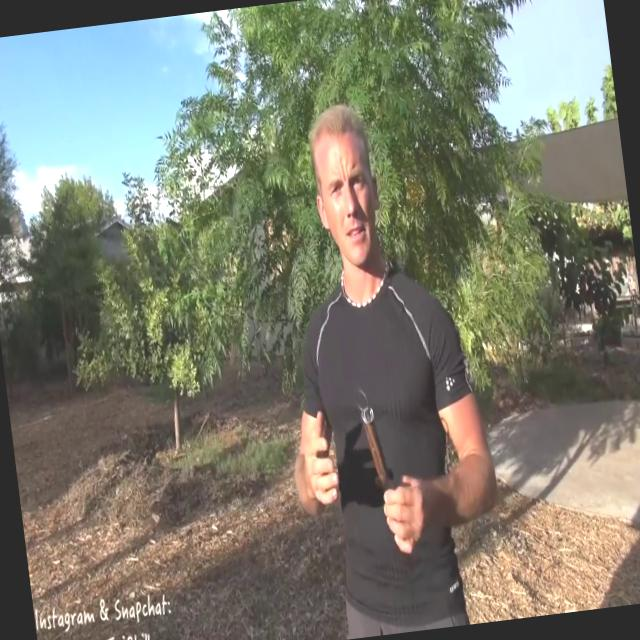knife: (349, 381, 438, 564)
